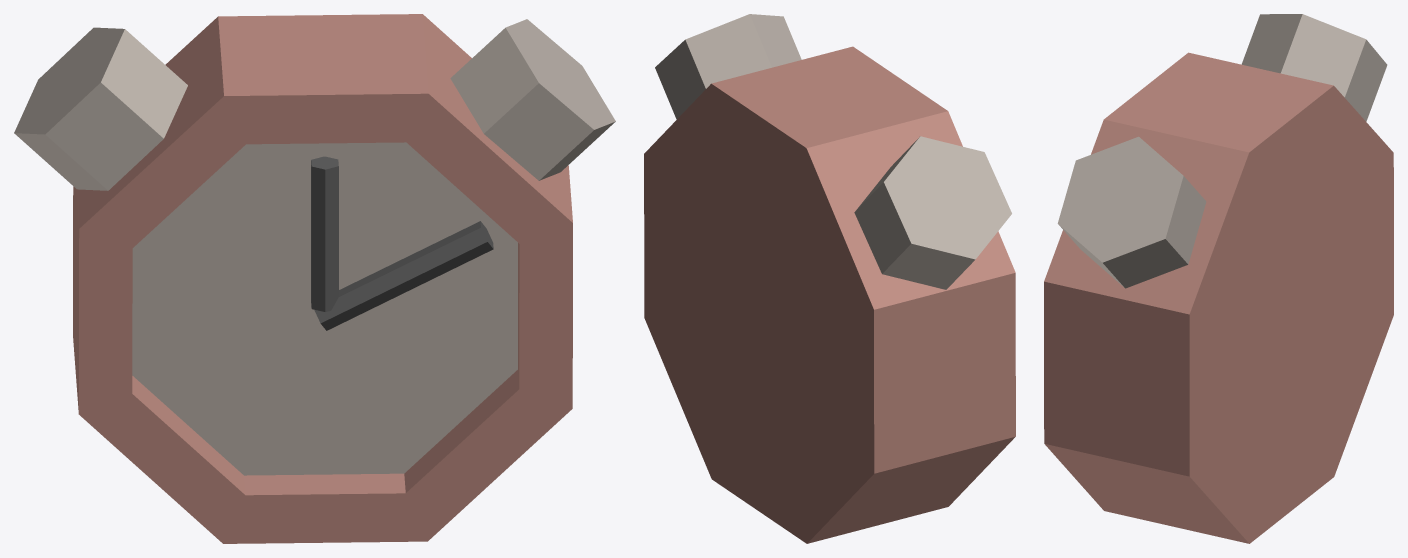
File: alarm_clock_1.fbx
The picture shows the model from 3 angles, left to right: view 1: azimuth 30°, elevation 25°; view 2: azimuth 150°, elevation 25°; view 3: azimuth 270°, elevation 25°; orthographic projection. The views are drawn at different scales.
Parts seen in each view (by area): view 1: Clock.001, Cylinder.010, Cylinder.009; view 2: Clock.001; view 3: Clock.001.
Boxes of the visible parts, box(x1,y1,x2,y2) form: Clock.001: box(14, 14, 615, 543); Cylinder.010: box(314, 221, 493, 330); Cylinder.009: box(311, 156, 338, 311); Clock.001: box(644, 14, 1015, 543); Clock.001: box(1044, 14, 1393, 543).
Size of the model in its own units: 34.57 by 33.37 by 25.43.
